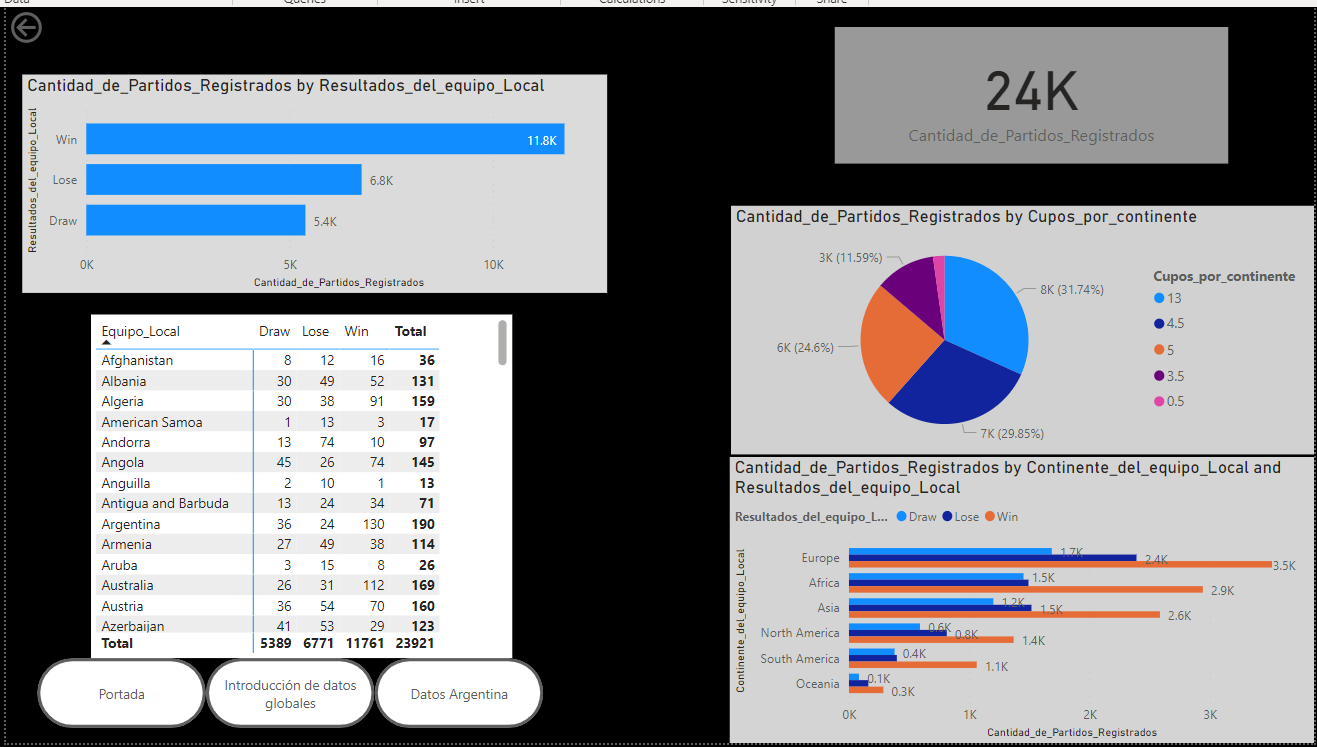

The page's visual inventory and layout, read from the dashboard file:
{"tool":"powerbi","page":{"name":"Datos globales","canvas":[1280,720],"ordinal":2},"visuals":[{"type":"actionButton","box":[0,0,100,40],"z":0},{"type":"card","fields":{"Values":["international_matches.Cantidad_de_Partidos_Registrados"]},"box":[810.5,19.6,385.1,133.2],"z":1000},{"type":"clusteredBarChart","fields":{"Y":["international_matches.Cantidad_de_Partidos_Registrados"],"Category":["international_matches.Resultados_del_equipo_Local"]},"box":[15.9,66,572.1,213.9],"z":2000},{"type":"pieChart","fields":{"Category":["international_matches.Cupos_por_continente"],"Y":["international_matches.Cantidad_de_Partidos_Registrados"]},"box":[708.5,194,572.1,243.3],"z":3000},{"type":"clusteredBarChart","fields":{"Category":["international_matches.Continente_del_equipo_Local"],"Series":["international_matches.Resultados_del_equipo_Local"],"Y":["international_matches.Cantidad_de_Partidos_Registrados"]},"box":[708.3,440,571.7,280],"z":4000},{"type":"actionButton","box":[30,636.7,165,68.3],"z":5000},{"type":"actionButton","box":[195,636.7,165,68.3],"z":6000},{"type":"actionButton","box":[360,636.7,165,68.3],"z":7000},{"type":"pivotTable","fields":{"Columns":["international_matches.Resultados_del_equipo_Local"],"Values":["CountNonNull(international_matches.Resultados_del_equipo_Local)"],"Rows":["international_matches.Equipo_Local"]},"box":[83.1,300.7,412,336.2],"z":8000}]}

Visuals, with their boxes in screenshot pixels (x1, y1, x2, y2):
actionButton: 7:7:108:47
card - international_matches.Cantidad_de_Partidos_Registrados: 829:27:1220:162
clusteredBarChart - international_matches.Cantidad_de_Partidos_Registrados x international_matches.Resultados_del_equipo_Local: 23:74:603:291
pieChart - international_matches.Cupos_por_continente x international_matches.Cantidad_de_Partidos_Registrados: 726:204:1306:451
clusteredBarChart - international_matches.Continente_del_equipo_Local x international_matches.Resultados_del_equipo_Local: 726:453:1306:737
actionButton: 37:653:205:722
actionButton: 205:653:372:722
actionButton: 372:653:540:722
pivotTable - international_matches.Resultados_del_equipo_Local x CountNonNull(international_matches.Resultados_del_equipo_Local): 91:312:509:653
